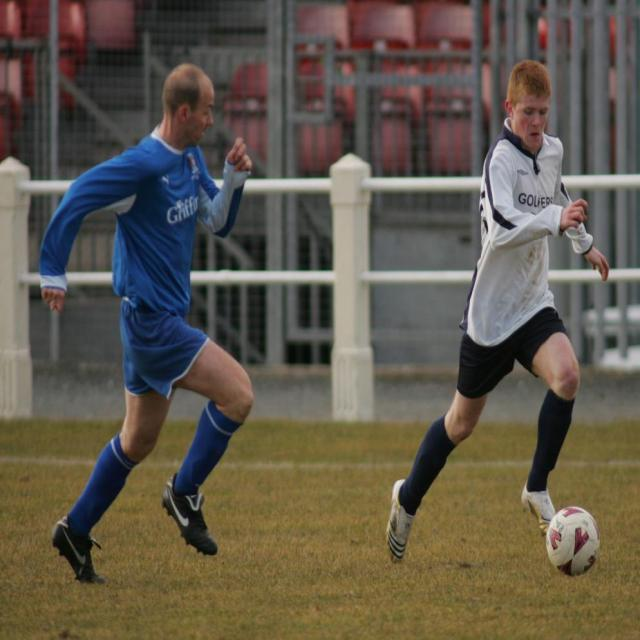ball: (545, 504, 601, 578)
